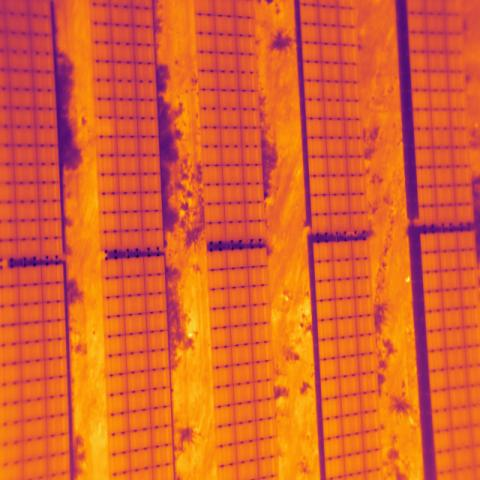fault: (94, 117, 117, 137)
